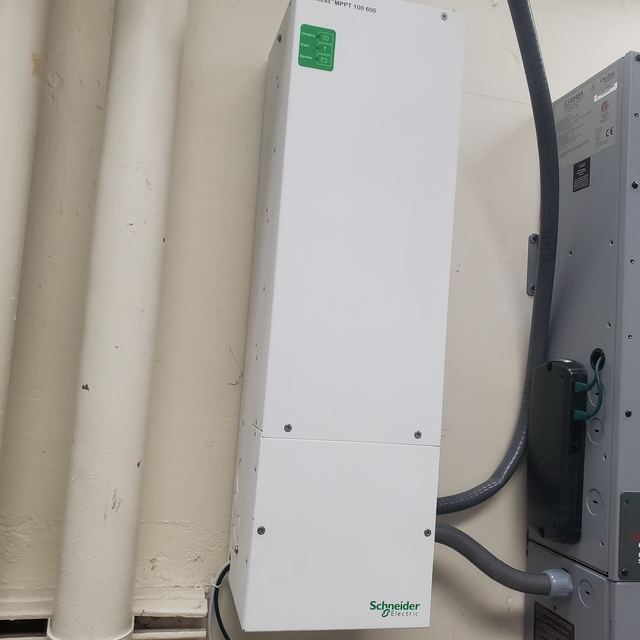charge_controller: (222, 1, 466, 633)
